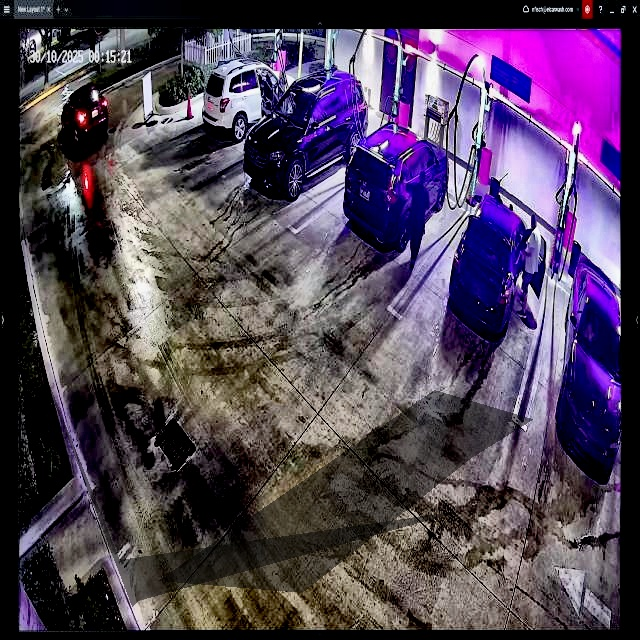Car: (249, 67, 362, 207), (345, 110, 446, 249), (452, 196, 545, 331)
